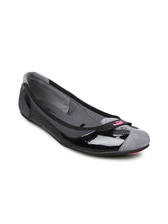shoes: (10, 71, 157, 162)
